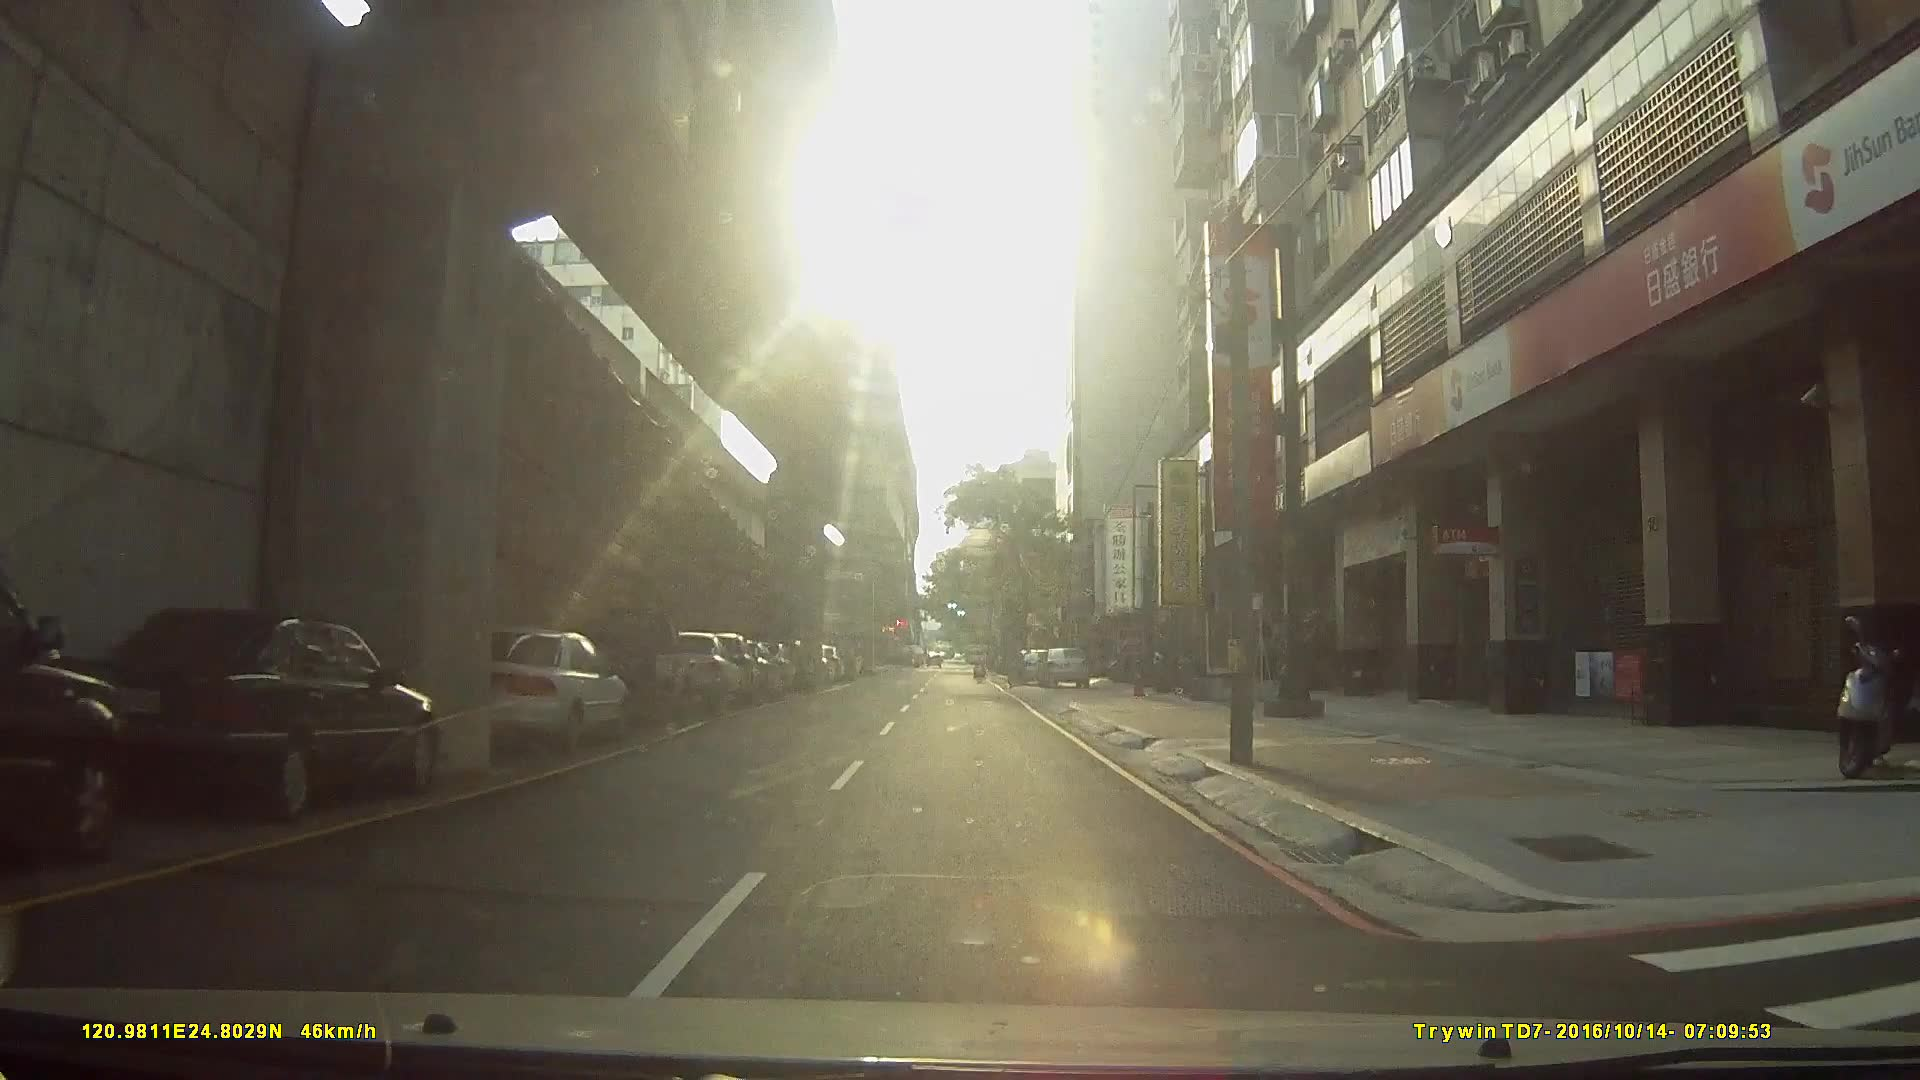vehicle: (54, 603, 440, 822), (0, 584, 124, 866), (458, 622, 630, 752), (549, 608, 690, 727), (659, 620, 794, 670), (1034, 644, 1092, 688)
